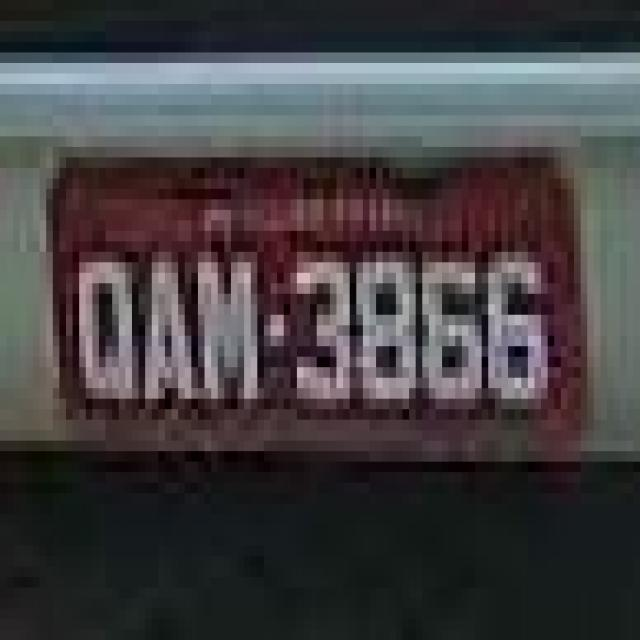3: (296, 230, 350, 422)
6: (486, 237, 556, 422), (420, 240, 483, 420)
8: (356, 239, 422, 417)
A: (134, 237, 202, 405)
M: (191, 236, 265, 419)
Q: (74, 243, 138, 426)
